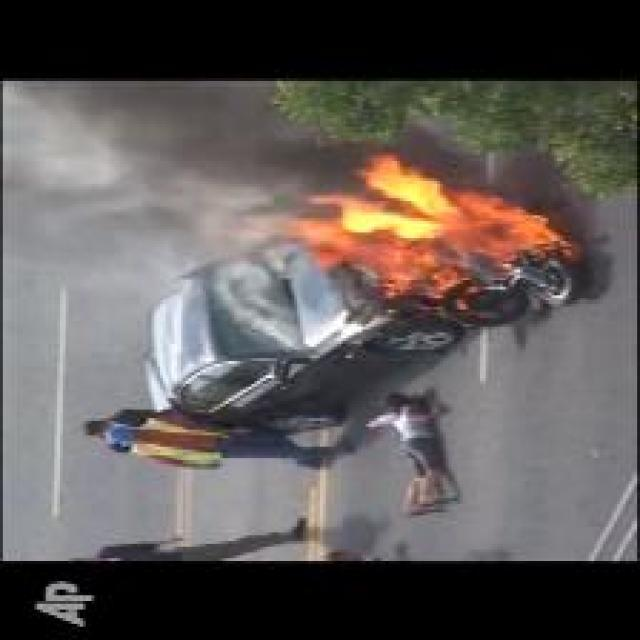Fire: (256, 157, 578, 303)
